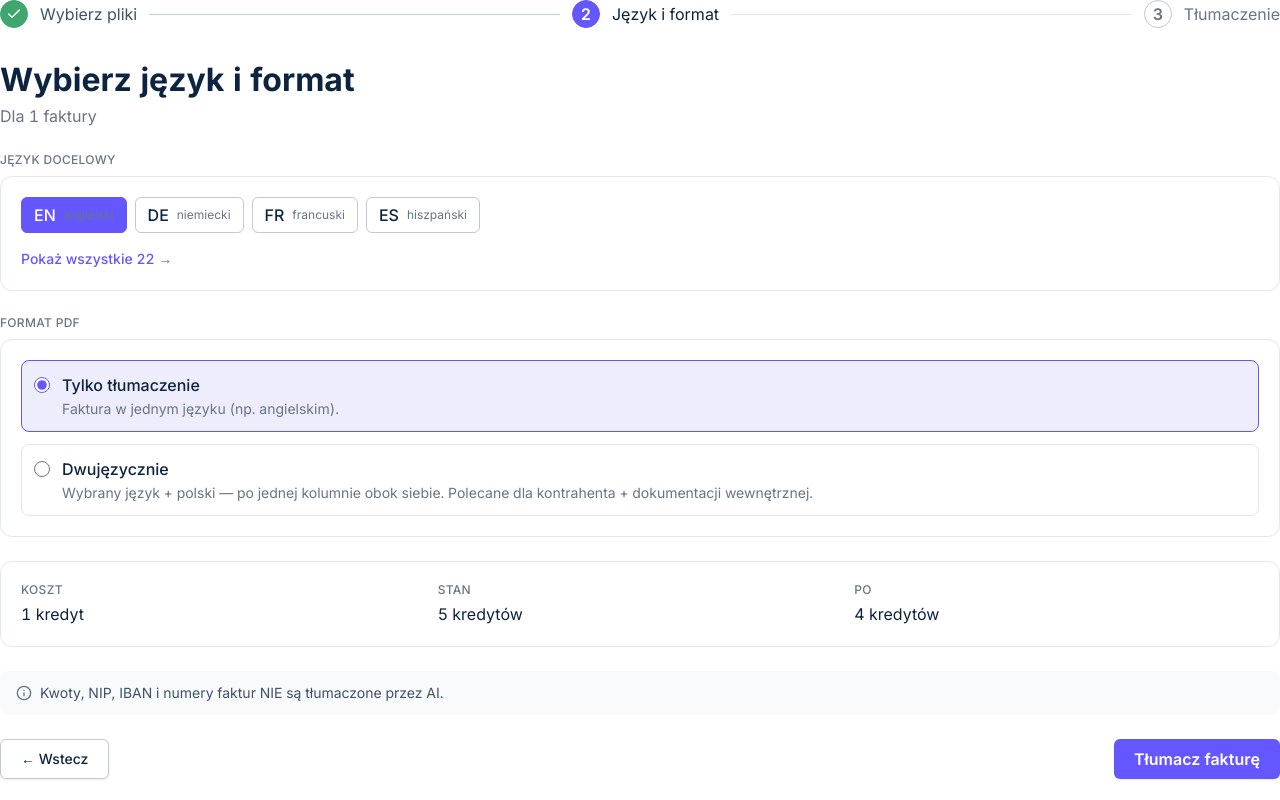
Test: <TranslatorWizard> › opens the hard-block name modal when the user clicks Translate without a reviewer name
The width and height of the screenshot is (1280, 800).
Step 1. Click the button "Tłumacz fakturę" → (1197, 759), box 1114,739 -> 1279,779
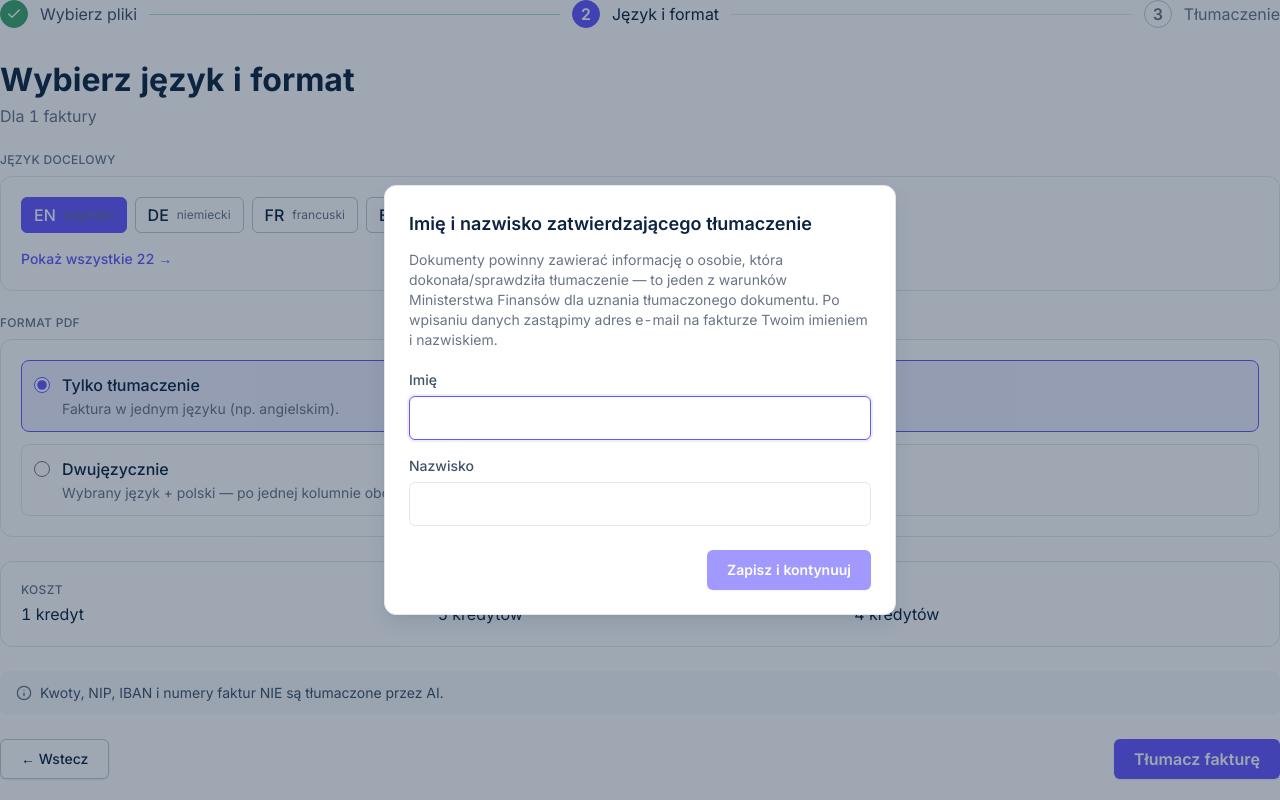
Now the dialog "Imię i nazwisko zatwierdzającego tłumaczenie" is shown
